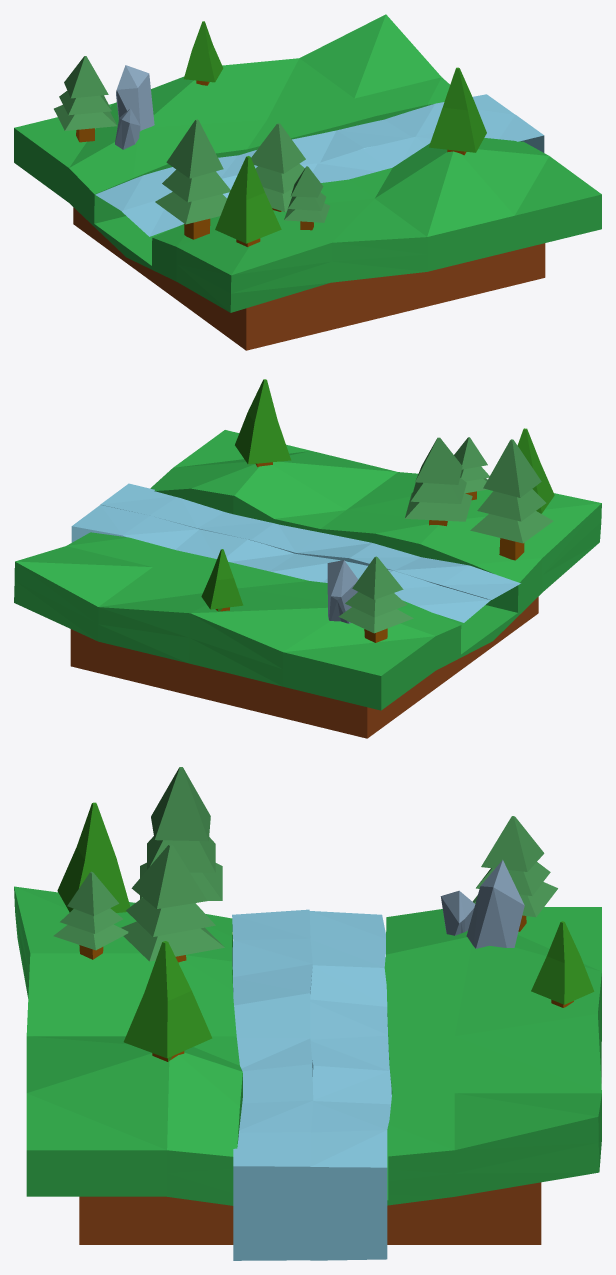
The model's file is first_low_poly_scene.glb.
3 renders of one model, top to bottom at view 1: azimuth 30°, elevation 25°; view 2: azimuth 150°, elevation 25°; view 3: azimuth 270°, elevation 25°, orthographic. The views are drawn at different scales.
Parts seen in each view (by area): view 1: Cube, Plane, Cube.003, Cube.002, Cube.007, Cube.005, Cube.004, Icosphere, Cube.006, Cube.008; view 2: Cube, Plane, Cube.003, Cube.004, Cube.007, Cube.005, Cube.008, Icosphere, Cube.006, Cube.002; view 3: Cube, Plane, Cube.004, Cube.005, Cube.003, Icosphere, Cube.007, Cube.002, Cube.006, Cube.008.
Boxes of the visible parts, x1,y1,x2,y2 form: Cube: (14, 14, 601, 350); Plane: (95, 94, 544, 236); Cube.003: (155, 119, 230, 239); Cube.002: (215, 156, 281, 246); Cube.007: (54, 56, 117, 142); Cube.005: (429, 67, 486, 155); Cube.004: (251, 123, 321, 211); Icosphere: (115, 65, 154, 149); Cube.006: (284, 166, 330, 230); Cube.008: (184, 21, 223, 85); Cube: (14, 430, 601, 738); Plane: (71, 483, 520, 622); Cube.003: (470, 439, 553, 560); Cube.004: (405, 437, 472, 526); Cube.007: (338, 556, 413, 642); Cube.005: (235, 379, 291, 467); Cube.008: (201, 549, 243, 611); Icosphere: (327, 560, 358, 623); Cube.006: (454, 437, 489, 500); Cube.002: (517, 428, 554, 513); Cube: (14, 886, 601, 1244); Plane: (232, 909, 391, 1260); Cube.004: (121, 844, 224, 962); Cube.005: (123, 941, 212, 1061); Cube.003: (140, 767, 222, 900); Icosphere: (440, 860, 524, 948); Cube.007: (472, 816, 557, 931); Cube.002: (57, 802, 130, 912); Cube.006: (53, 871, 128, 959); Cube.008: (531, 921, 594, 1007).
Size of the model in its own units: 7.93 by 3.94 by 7.64.
